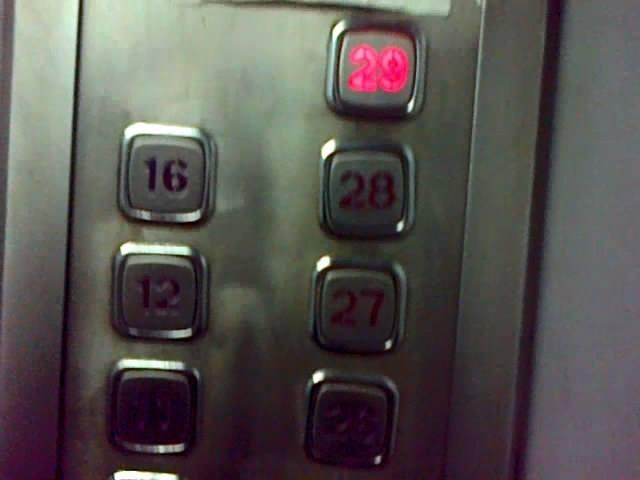12: (105, 237, 212, 346)
16: (112, 120, 219, 229)
27: (307, 252, 411, 358)
28: (316, 135, 420, 241)
29: (322, 12, 429, 122)
blur: (100, 354, 207, 463), (296, 365, 403, 474)
